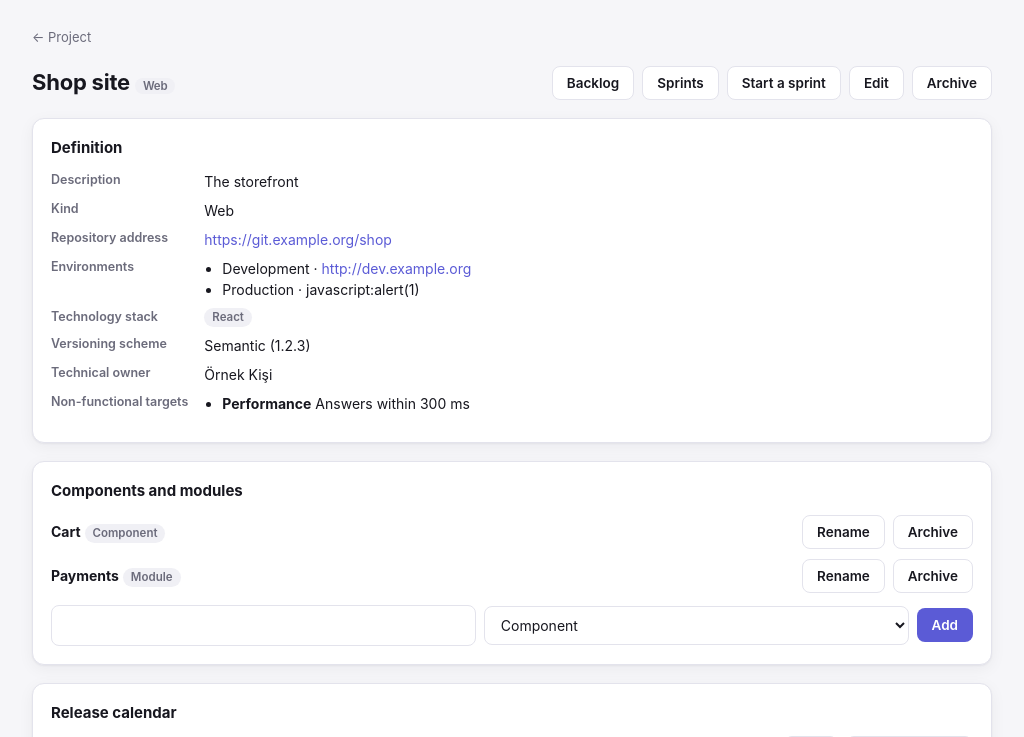
the application page: definition › shows the refusal of an archive
The width and height of the screenshot is (1024, 737).
Click the button "Archive" in the row of "Start a sprint" at (952, 82), box [912,66,992,100]
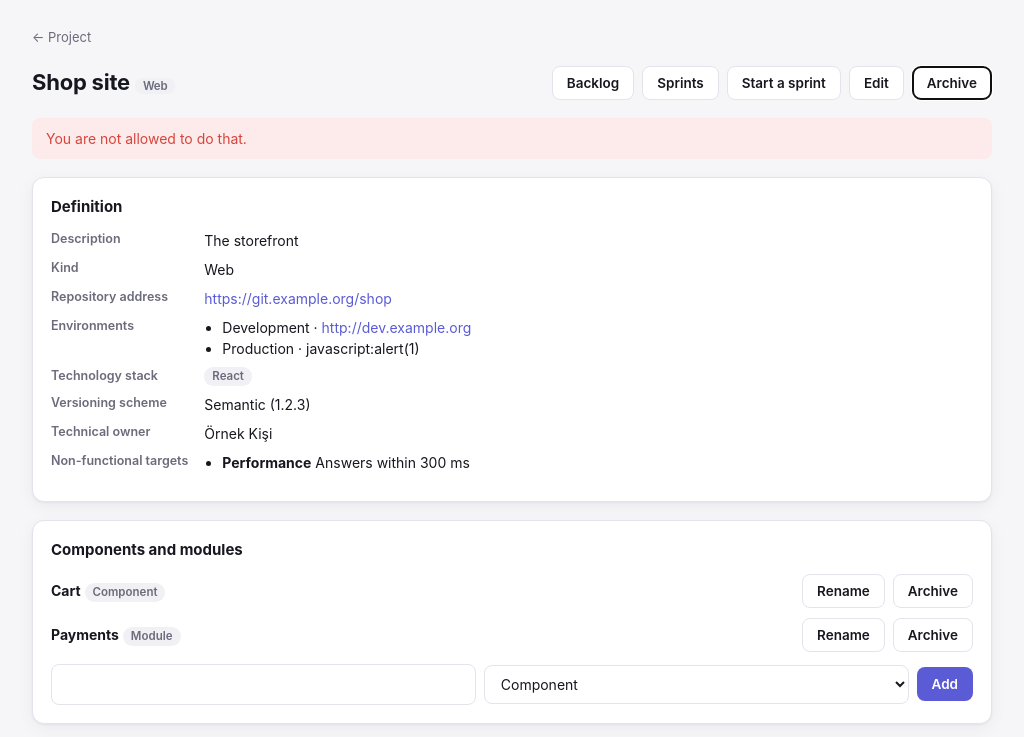
Expected: the text "You are not allowed to do that." is shown, [32,118,992,158]
